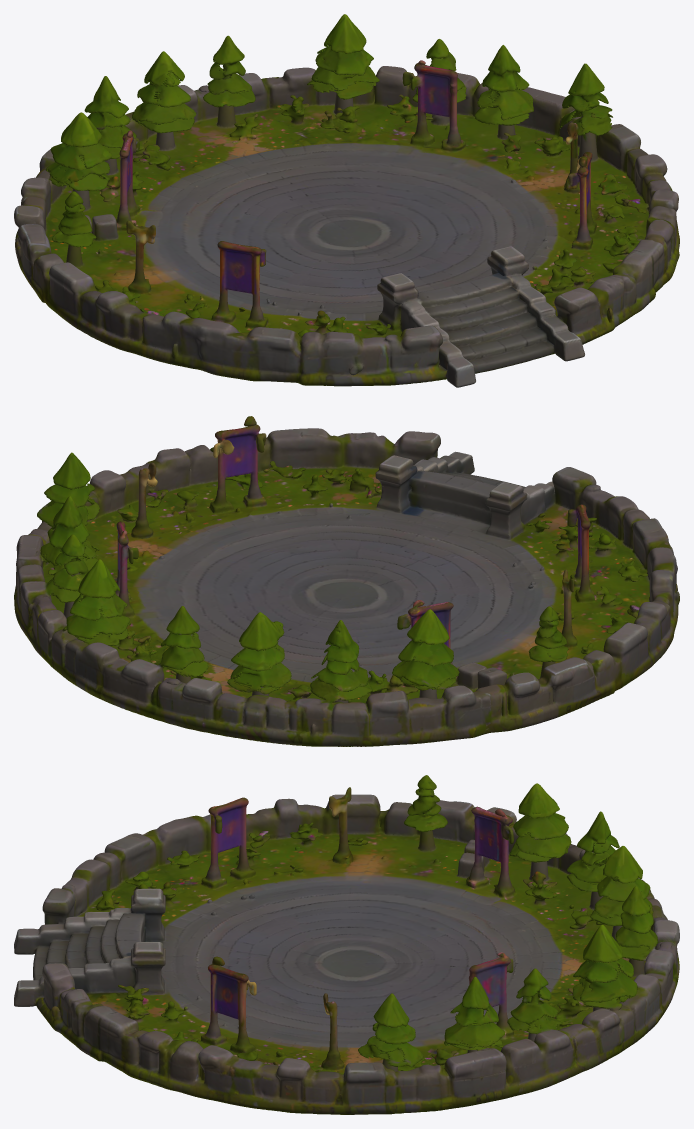
The model's file is arena.glb.
3 views of the same model, one above another, from view 1: azimuth 30°, elevation 25°; view 2: azimuth 150°, elevation 25°; view 3: azimuth 270°, elevation 25° (orthographic).
Visible parts, largest first — view 1: tripo_node_2b07f4e2-17cb-4579-b59f-d3299907923e; view 2: tripo_node_2b07f4e2-17cb-4579-b59f-d3299907923e; view 3: tripo_node_2b07f4e2-17cb-4579-b59f-d3299907923e.
Part boxes in pixels (box(x1,y1,x2,y2)): tripo_node_2b07f4e2-17cb-4579-b59f-d3299907923e: box(14, 14, 679, 387); tripo_node_2b07f4e2-17cb-4579-b59f-d3299907923e: box(14, 416, 679, 746); tripo_node_2b07f4e2-17cb-4579-b59f-d3299907923e: box(14, 775, 679, 1114).
Bounding box in the file's own units: 0.9924 × 0.1834 × 1.
Materials: 1 (1 with a texture image).
